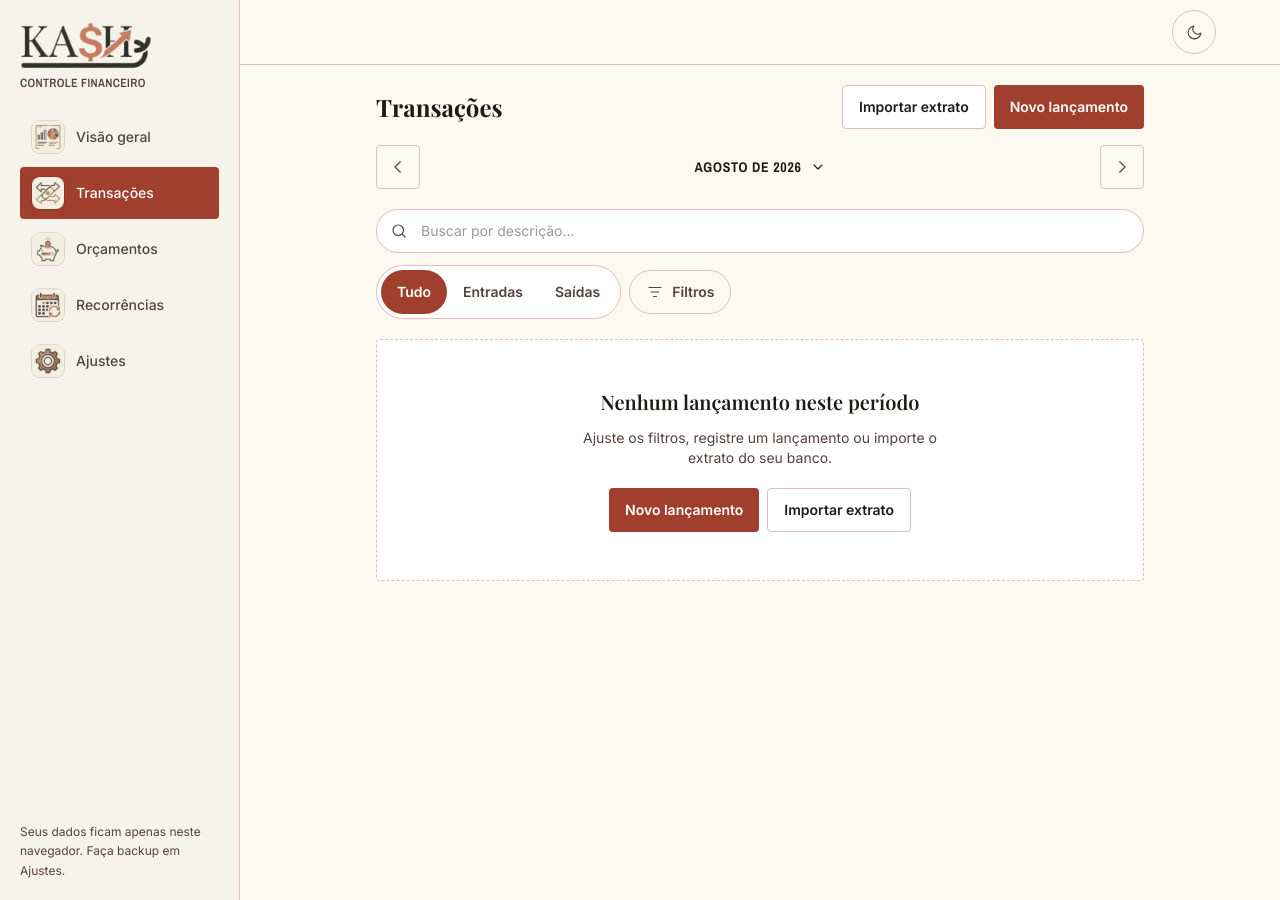
Scenario: caminhos até a importação de extrato › Transações tem o botão no cabeçalho, ao lado de novo lançamento
Check: the heading "Transações" is shown, box [376,91,503,123]
Click the 1st link "Importar extrato": point(914, 107) [842,85,986,129]
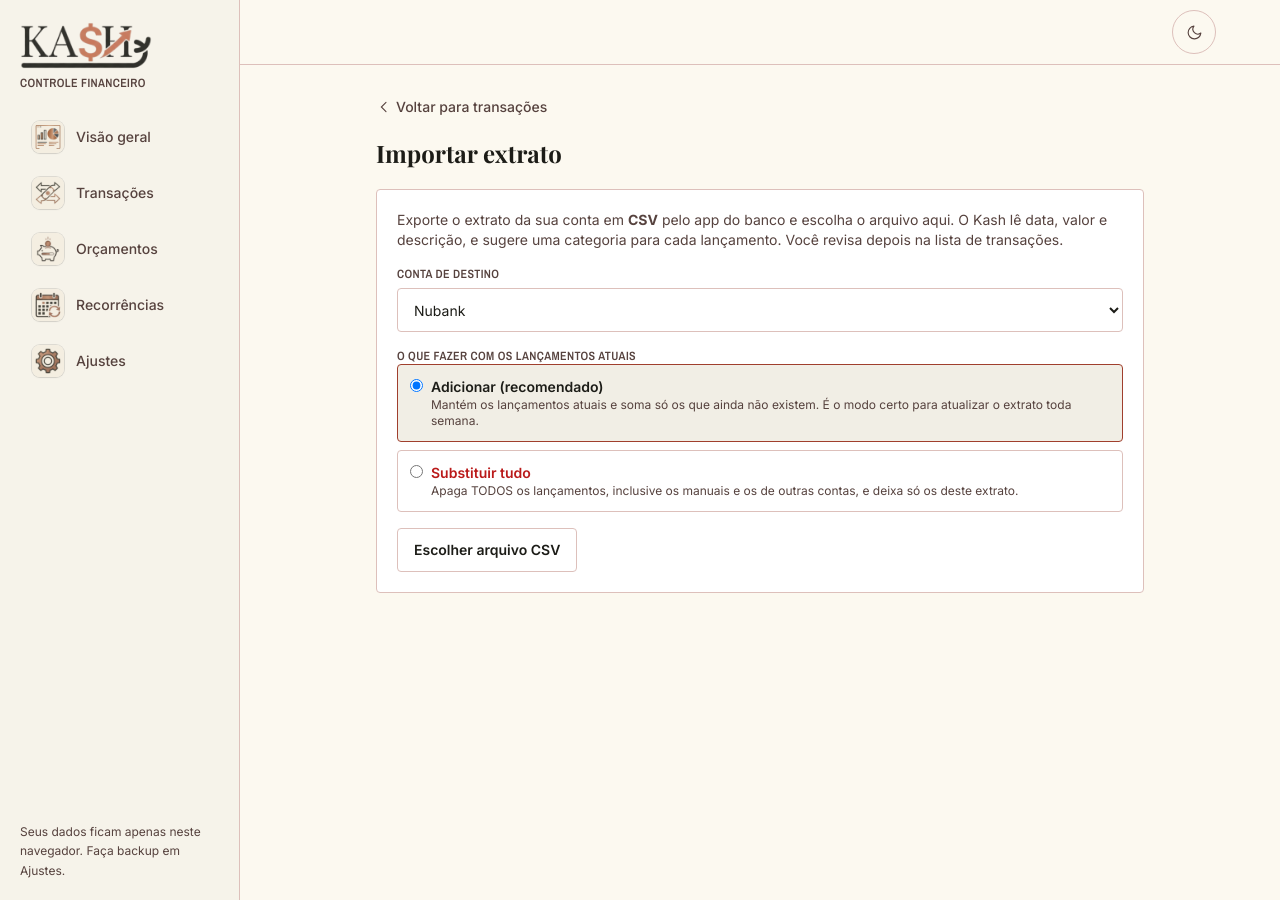
Check: the heading "Importar extrato" is shown, box [376,137,562,169]
